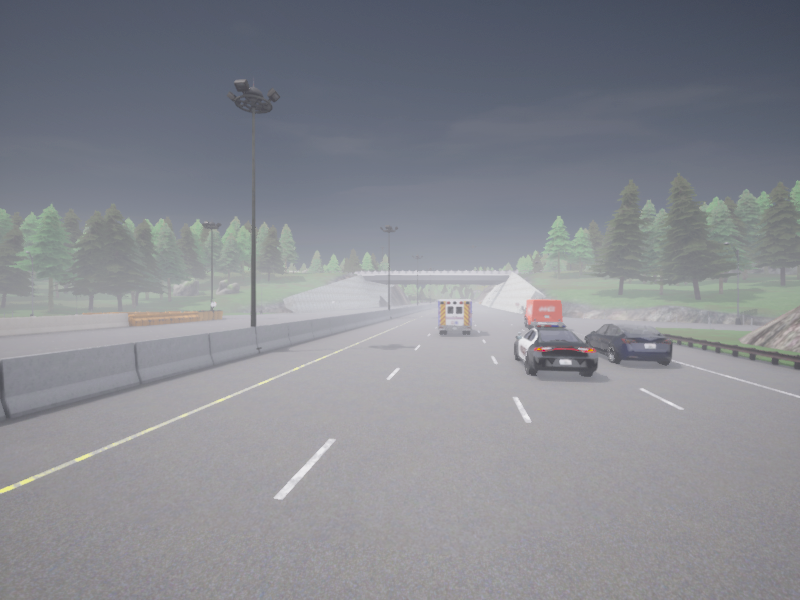vehicle: (514, 325, 598, 376), (584, 323, 672, 364), (521, 299, 563, 329), (438, 300, 472, 333)
